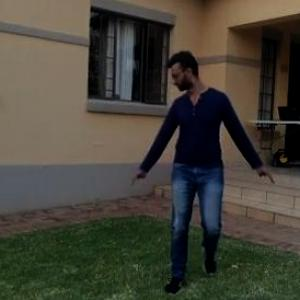land: (124, 50, 269, 299)
